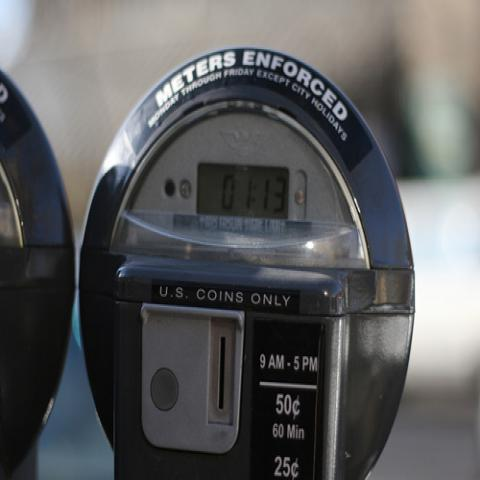car: (317, 51, 479, 415)
